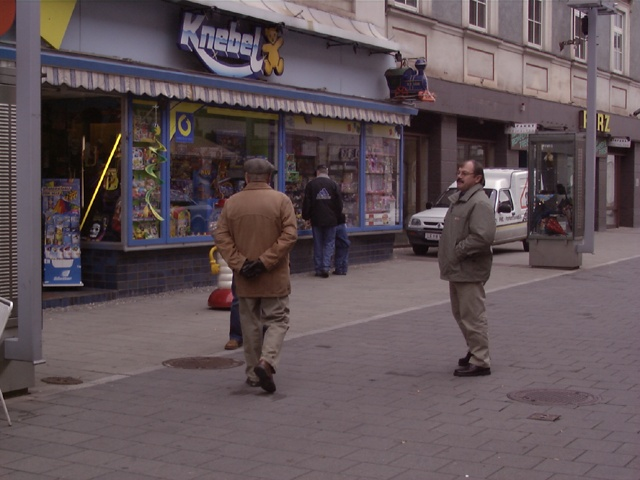person: (206, 155, 298, 391), (431, 149, 496, 377)
